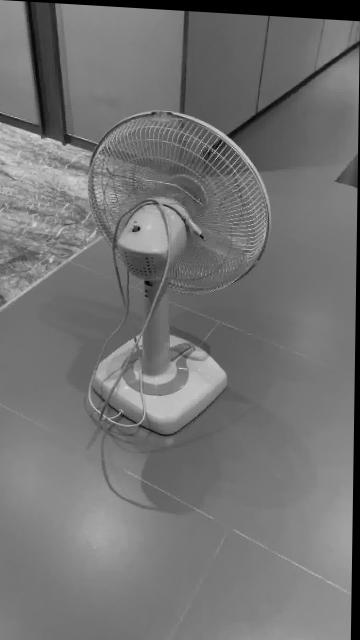Fan: (89, 110, 271, 435)
